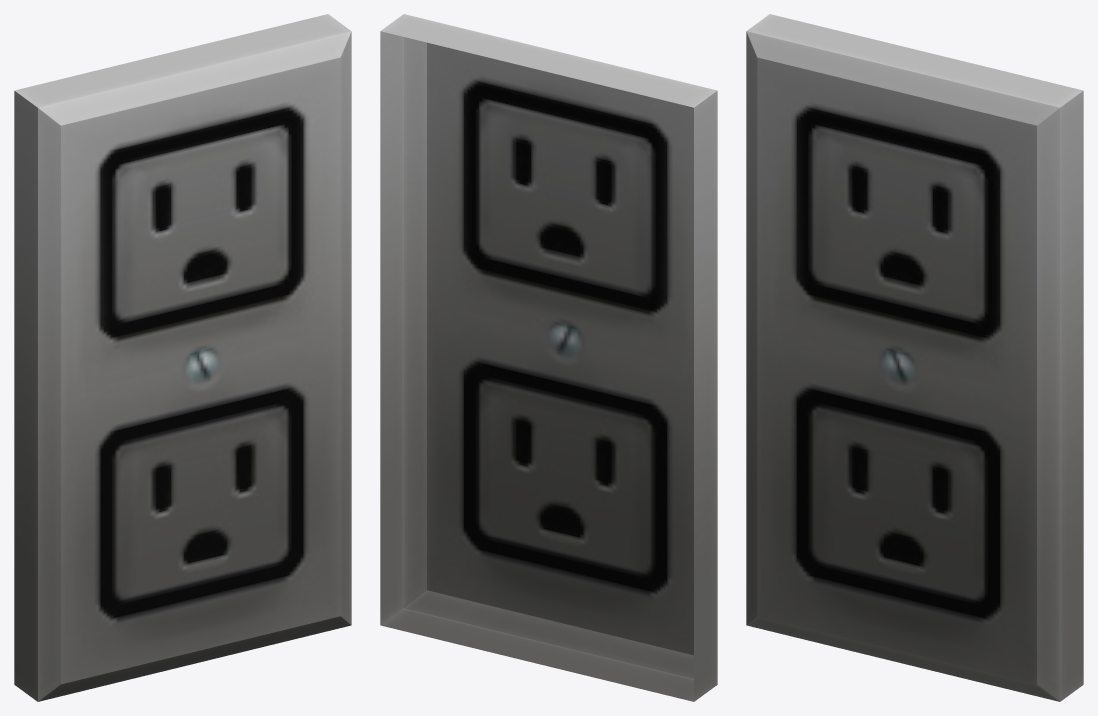
Rendered from SocketWall.fbx.
3 renders of one model, left to right at view 1: azimuth 30°, elevation 25°; view 2: azimuth 150°, elevation 25°; view 3: azimuth 330°, elevation 25°, orthographic.
Parts seen in each view (by area): view 1: SocketWall; view 2: SocketWall; view 3: SocketWall.
Boxes of the visible parts, <box> form: SocketWall: <box>14,14,351,701</box>; SocketWall: <box>380,14,717,701</box>; SocketWall: <box>746,14,1083,701</box>.
Size of the model in its own units: 12.37 by 2.02 by 22.39.
